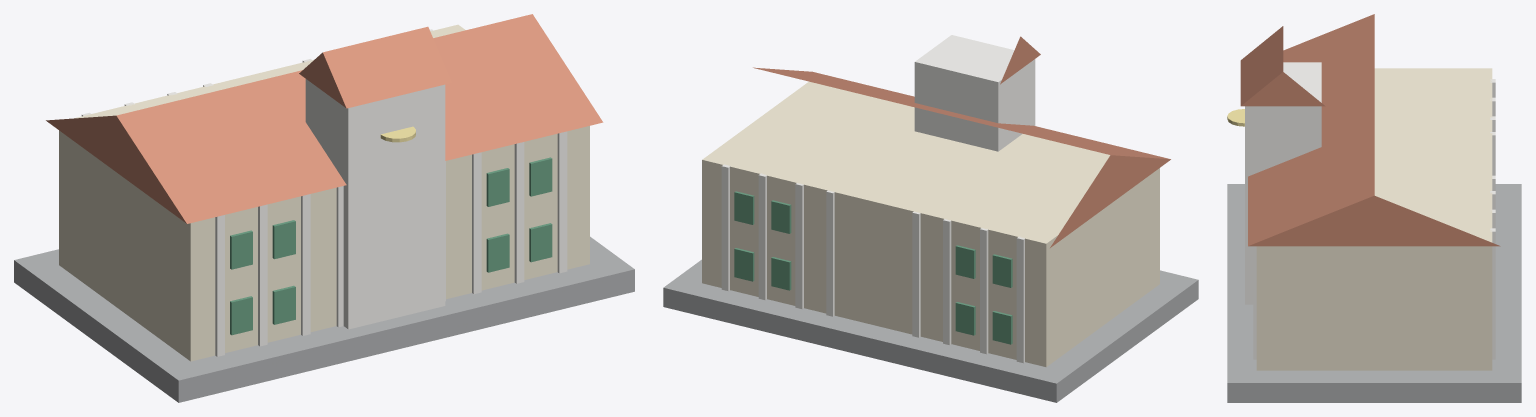
Rendered from lm_109_biet_thu_phap_co_tran_phu_nha_hat_hoa_binh_heritage_hall.glb.
3 views of the same model, side by side, from view 1: azimuth 30°, elevation 25°; view 2: azimuth 150°, elevation 25°; view 3: azimuth 270°, elevation 25° (orthographic). The views are drawn at different scales.
Parts seen in each view (by area): view 1: lm_109_biet_thu_phap_co_tran_phu_nha_hat_hoa_binh_heritage_h; view 2: lm_109_biet_thu_phap_co_tran_phu_nha_hat_hoa_binh_heritage_h; view 3: lm_109_biet_thu_phap_co_tran_phu_nha_hat_hoa_binh_heritage_h.
Part boxes in pixels (bbox=[...]): lm_109_biet_thu_phap_co_tran_phu_nha_hat_hoa_binh_heritage_h: bbox=[14, 14, 634, 402]; lm_109_biet_thu_phap_co_tran_phu_nha_hat_hoa_binh_heritage_h: bbox=[663, 35, 1198, 402]; lm_109_biet_thu_phap_co_tran_phu_nha_hat_hoa_binh_heritage_h: bbox=[1227, 14, 1521, 402].
Size of the model in its own units: 32 by 19.1 by 20.
